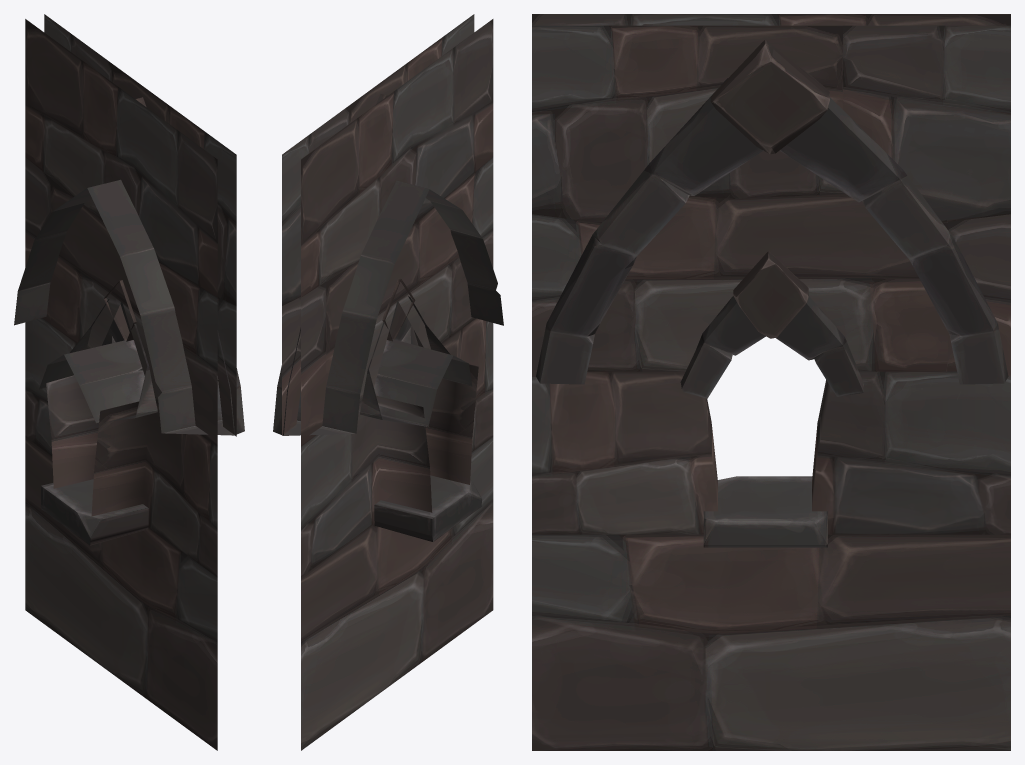
Rendered from A_CA_GEN_WallPanel_03.fbx.
3 renders of one model, left to right at view 1: azimuth 30°, elevation 25°; view 2: azimuth 150°, elevation 25°; view 3: azimuth 270°, elevation 25°, orthographic. The views are drawn at different scales.
Parts seen in each view (by area): view 1: A_CA_GEN_WallPanel_03; view 2: A_CA_GEN_WallPanel_03; view 3: A_CA_GEN_WallPanel_03.
Part boxes in pixels (box(x1,y1,x2,y2)): A_CA_GEN_WallPanel_03: box(14, 14, 244, 750); A_CA_GEN_WallPanel_03: box(273, 14, 503, 750); A_CA_GEN_WallPanel_03: box(532, 14, 1010, 750).
Bounding box in the file's own units: 203 × 1188 × 700.
1 material, 1 textured.
